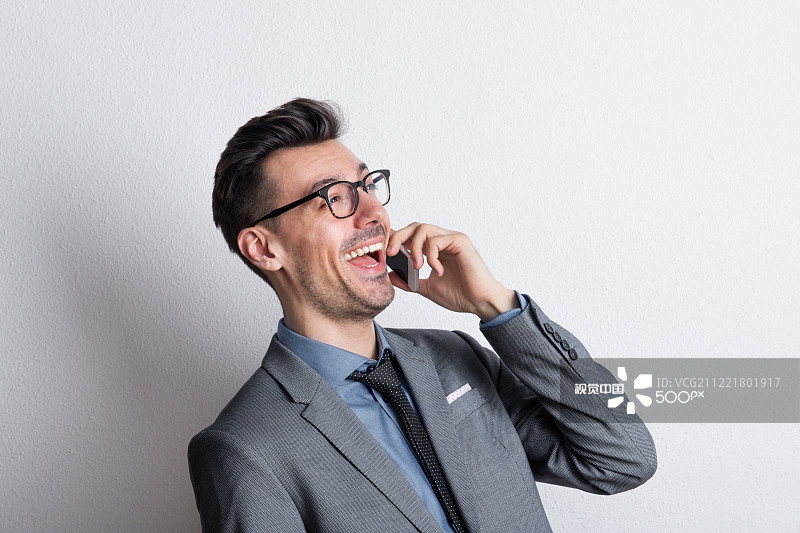calling: (369, 208, 527, 334)
